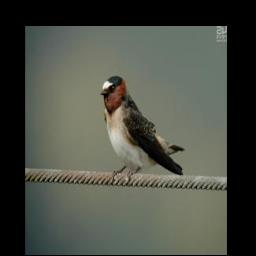Swallow: (98, 70, 187, 183)
